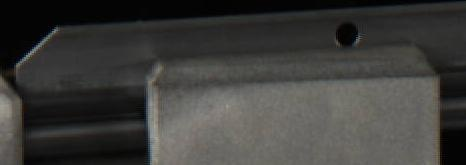cut: (14, 21, 140, 158)
holes: (334, 18, 362, 48)
